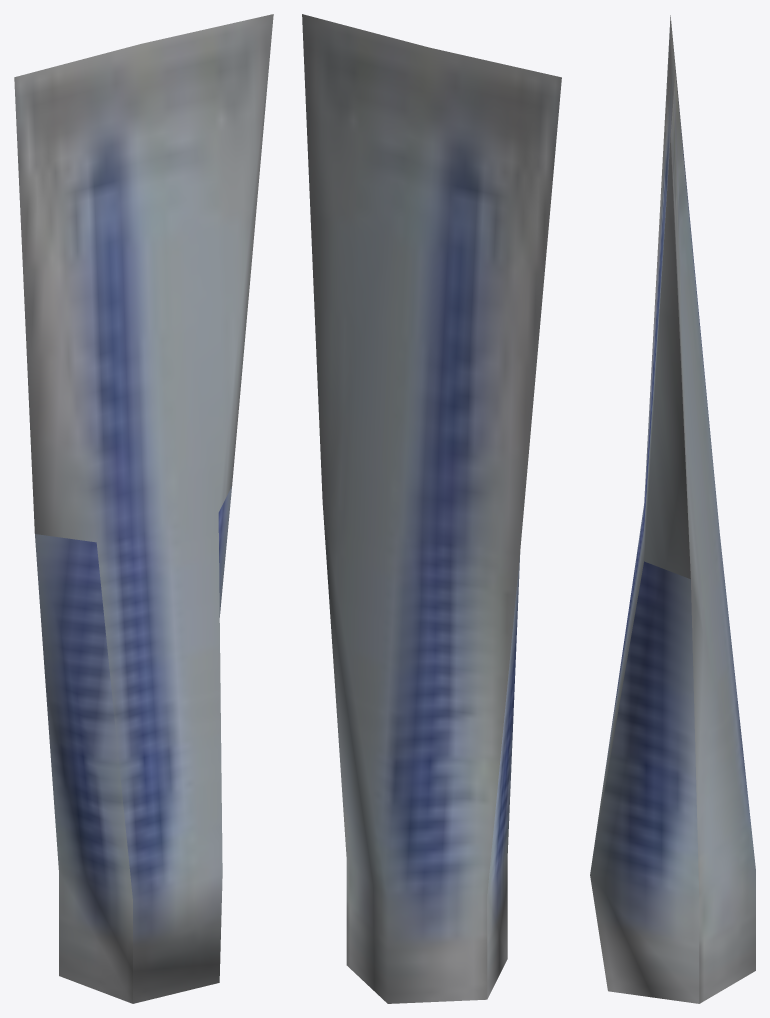
File: toothpaste_06.glb
The picture shows the model from 3 angles, left to right: view 1: azimuth 30°, elevation 25°; view 2: azimuth 150°, elevation 25°; view 3: azimuth 270°, elevation 25°; orthographic projection. The views are drawn at different scales.
Parts seen in each view (by area): view 1: toothpaste_06; view 2: toothpaste_06; view 3: toothpaste_06.
Boxes of the visible parts, box(x1,y1,x2,y2) form: toothpaste_06: box(14, 14, 273, 1003); toothpaste_06: box(302, 14, 561, 1003); toothpaste_06: box(590, 15, 755, 1003).
Bounding box in the file's own units: 0.0566 × 0.1927 × 0.0324.
Materials: 1 (1 with a texture image).
